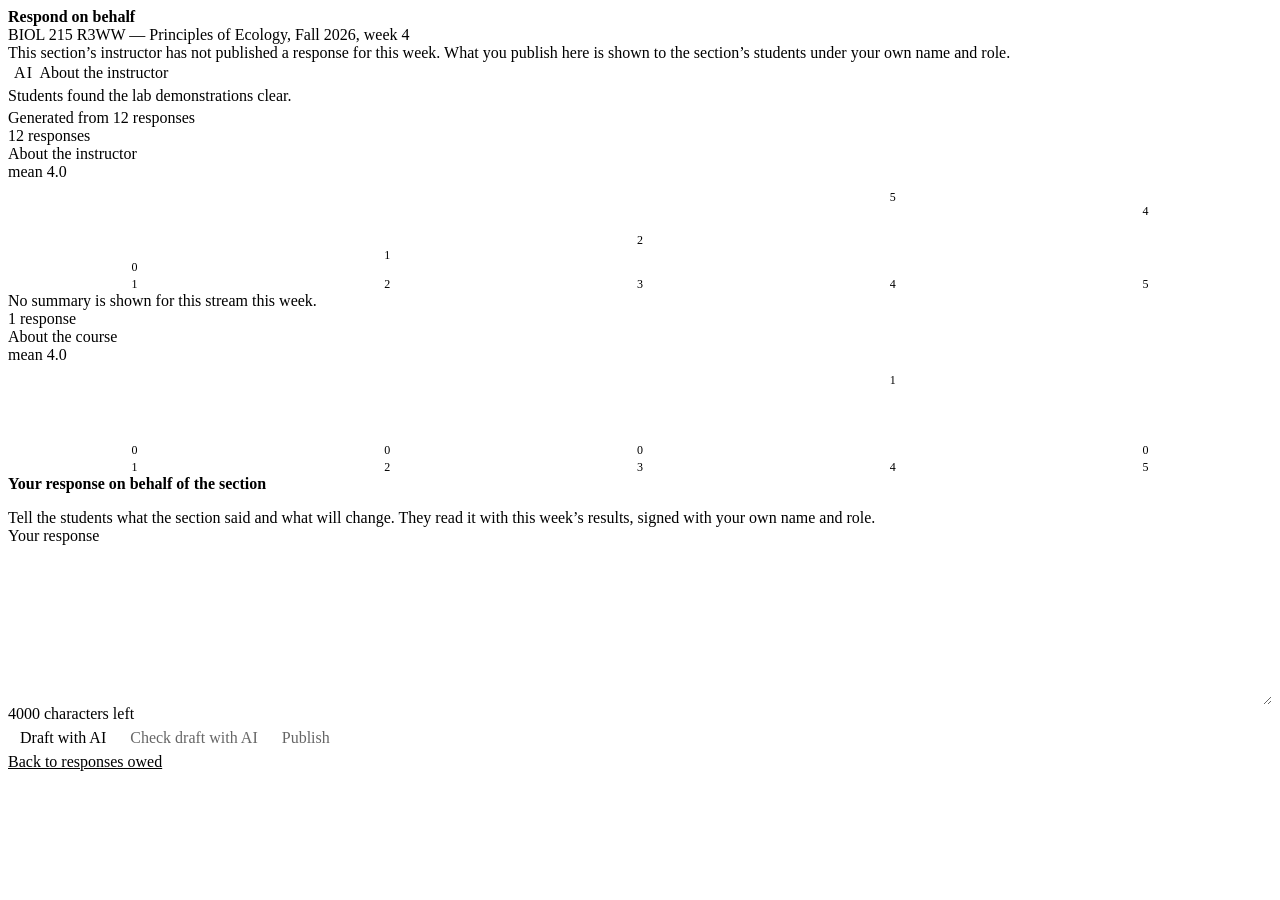
Scenario: responding on behalf › publishes through the on-behalf door and shows the reader’s own name and role
In the text box labelled "Your response": (640, 625) [8,545,1272,705], type "We heard you on pacing."
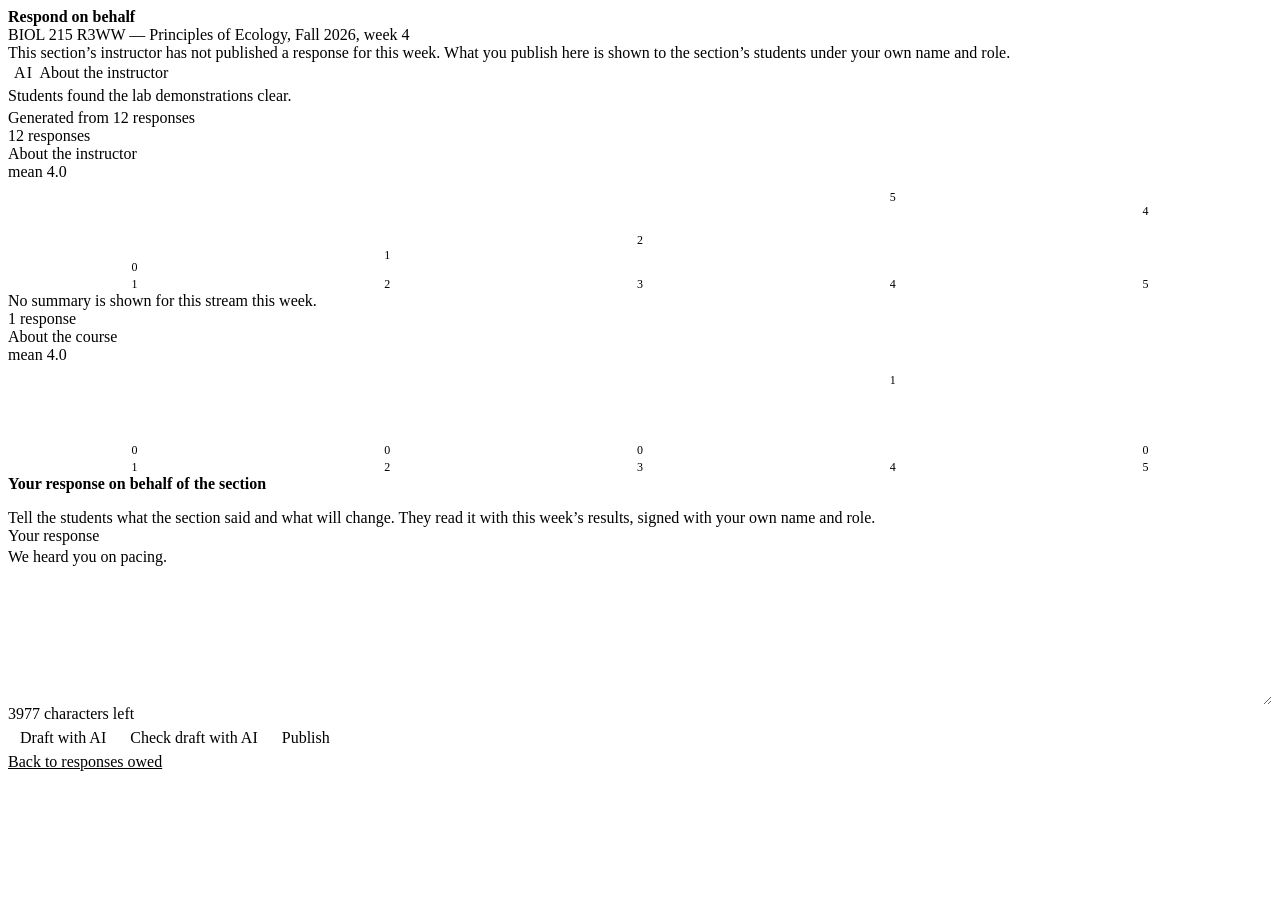
Click the button "Publish": (306, 738) [270,723,342,753]
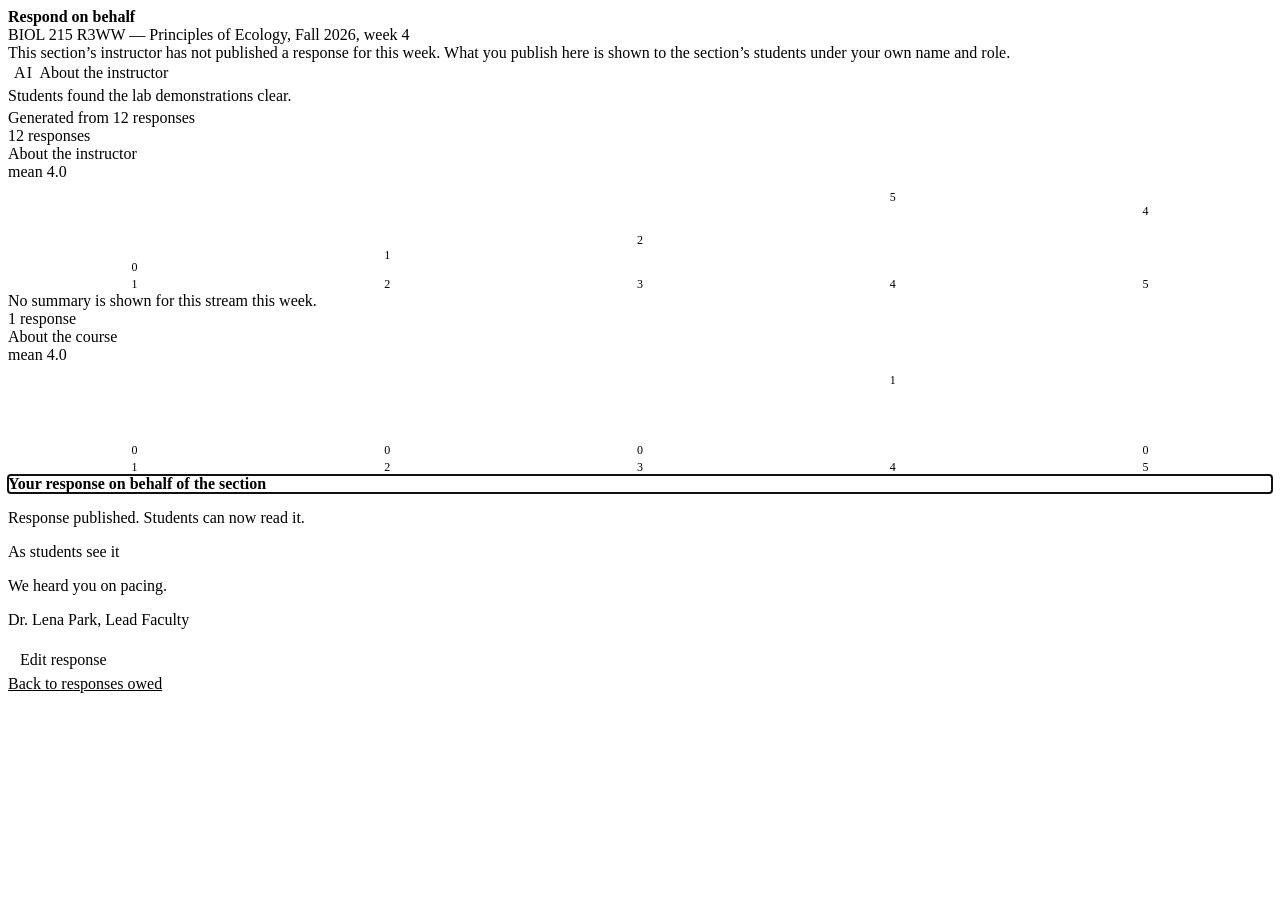
expect the text "We heard you on pacing." is shown: met, box [8,577,167,594]
expect the text "Dr. Lena Park" is shown: met, box [8,611,189,628]
expect the text "Lead Faculty" is shown: met, box [8,611,189,628]
